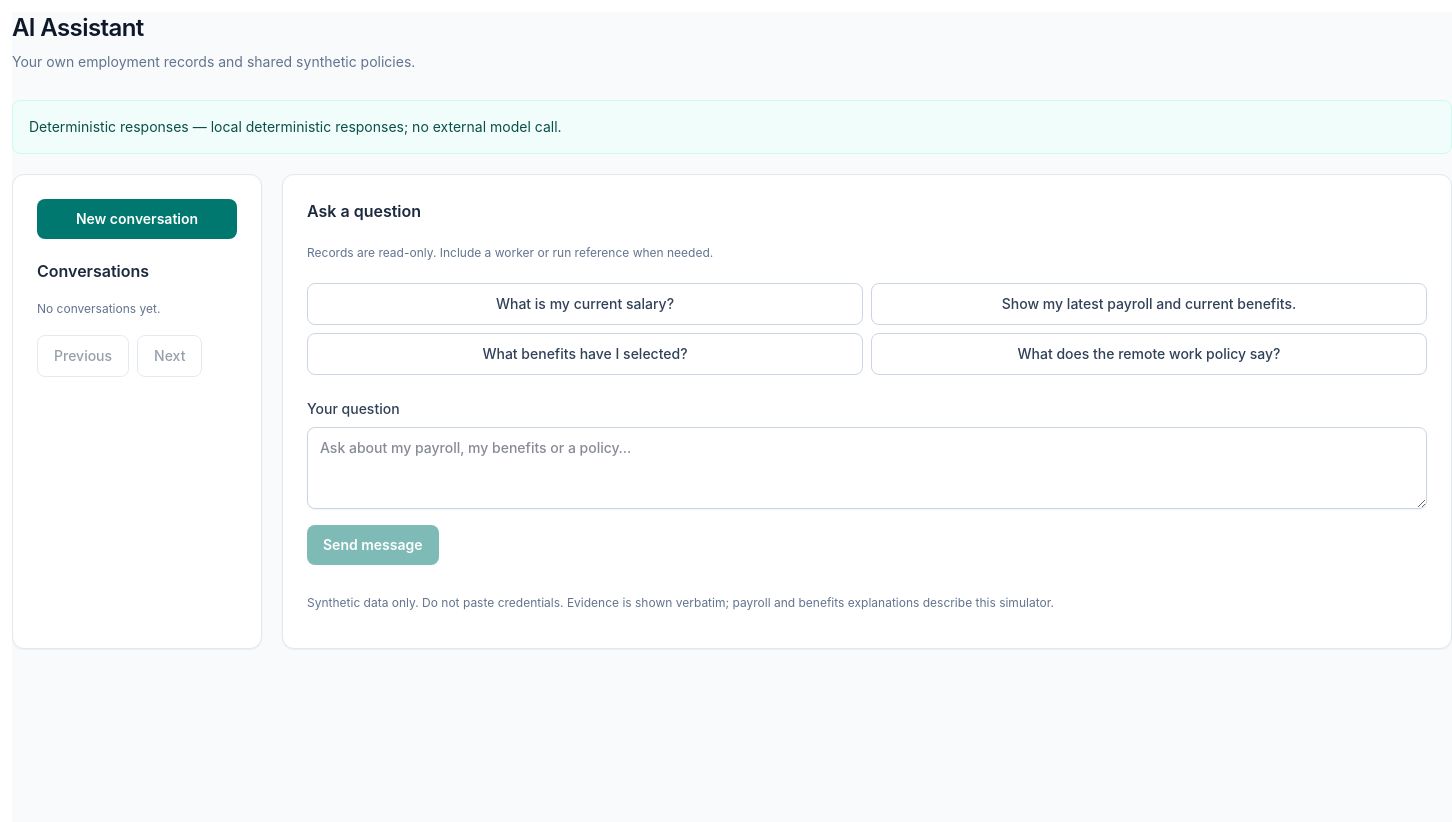
Test: employee send renders exact source values, citations and owned history
The image size is (1452, 822).
Expected: the text "local deterministic responses" is shown, [189,118,562,135]
Step 1. Type "Show my latest payroll" into the text box labelled "Your question" → (867, 468), box [307,426,1427,508]
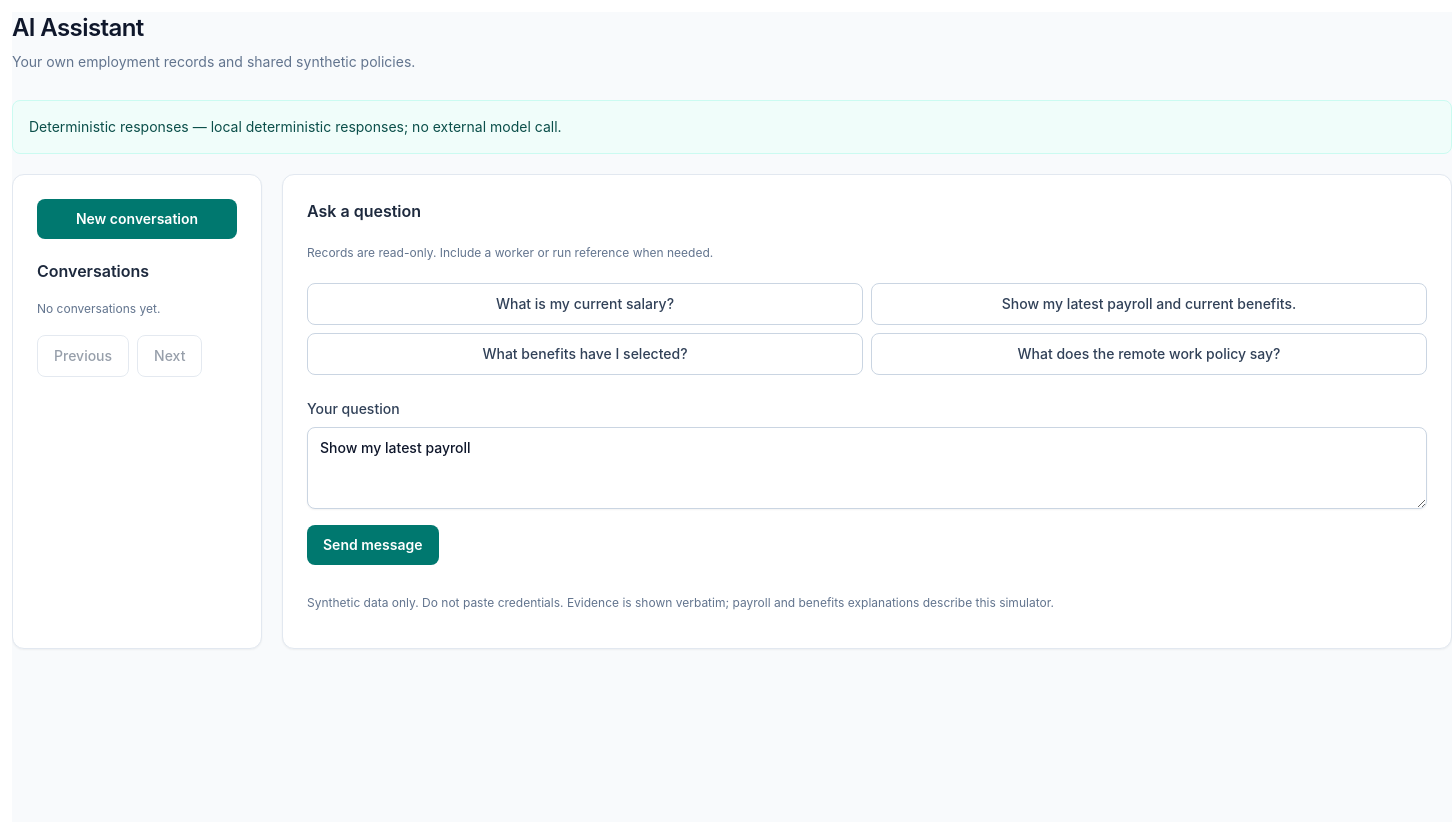
Step 2. Click the button "Send message" → (373, 544), box [307,524,439,564]
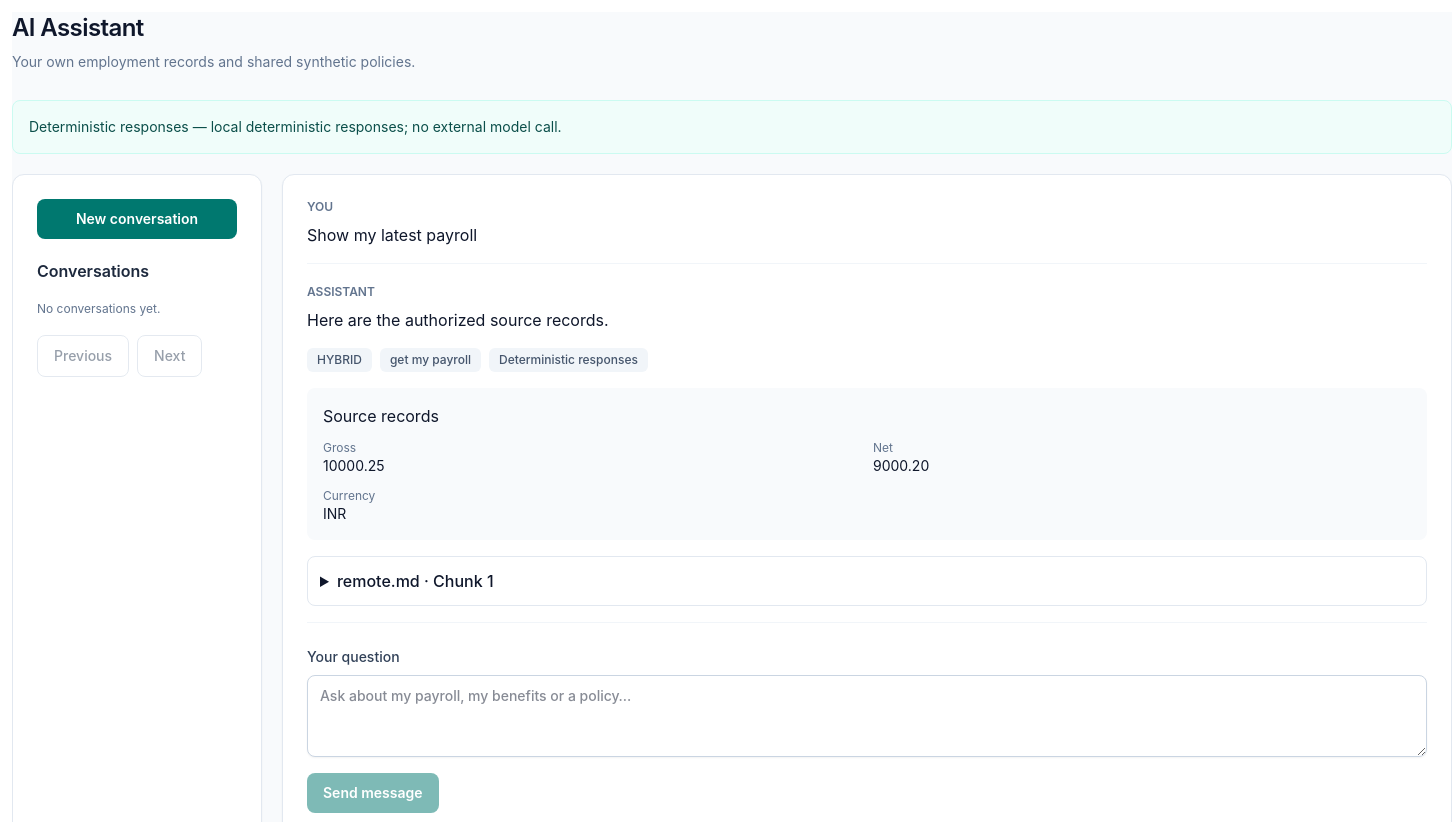
Result: the text "9000.20" is shown at [873,457,929,474]
Result: the heading "remote.md · Chunk 1" is shown at [337,571,494,591]
